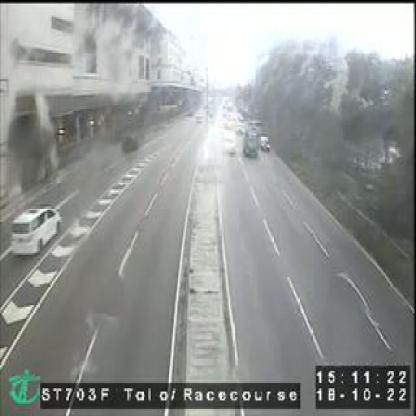Car: (10, 204, 62, 257), (259, 136, 271, 154)
Truck: (245, 127, 260, 158)
